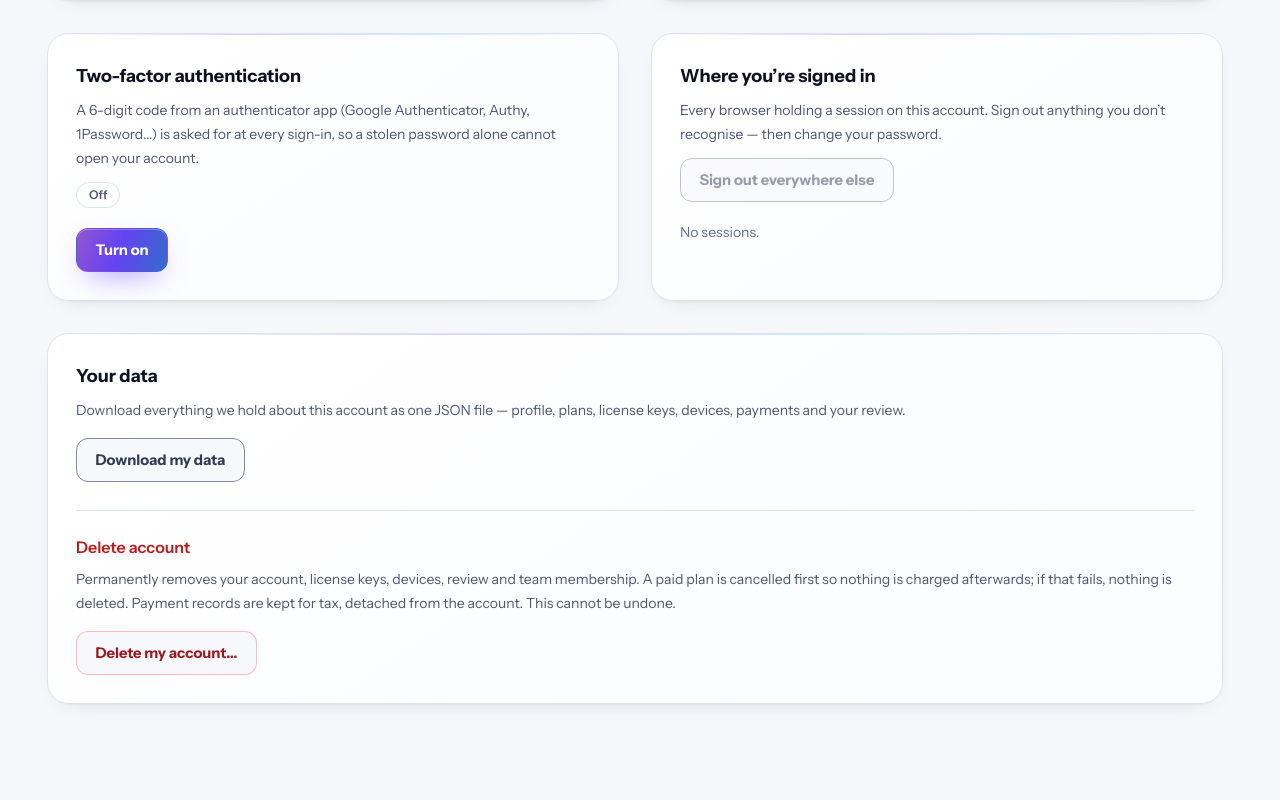
Test: Profile: Download my data › an empty answer is an error, not an empty file under a success toast
(page scrolled)
Click the button "Download my data": x=160, y=460 [76, 438, 245, 482]
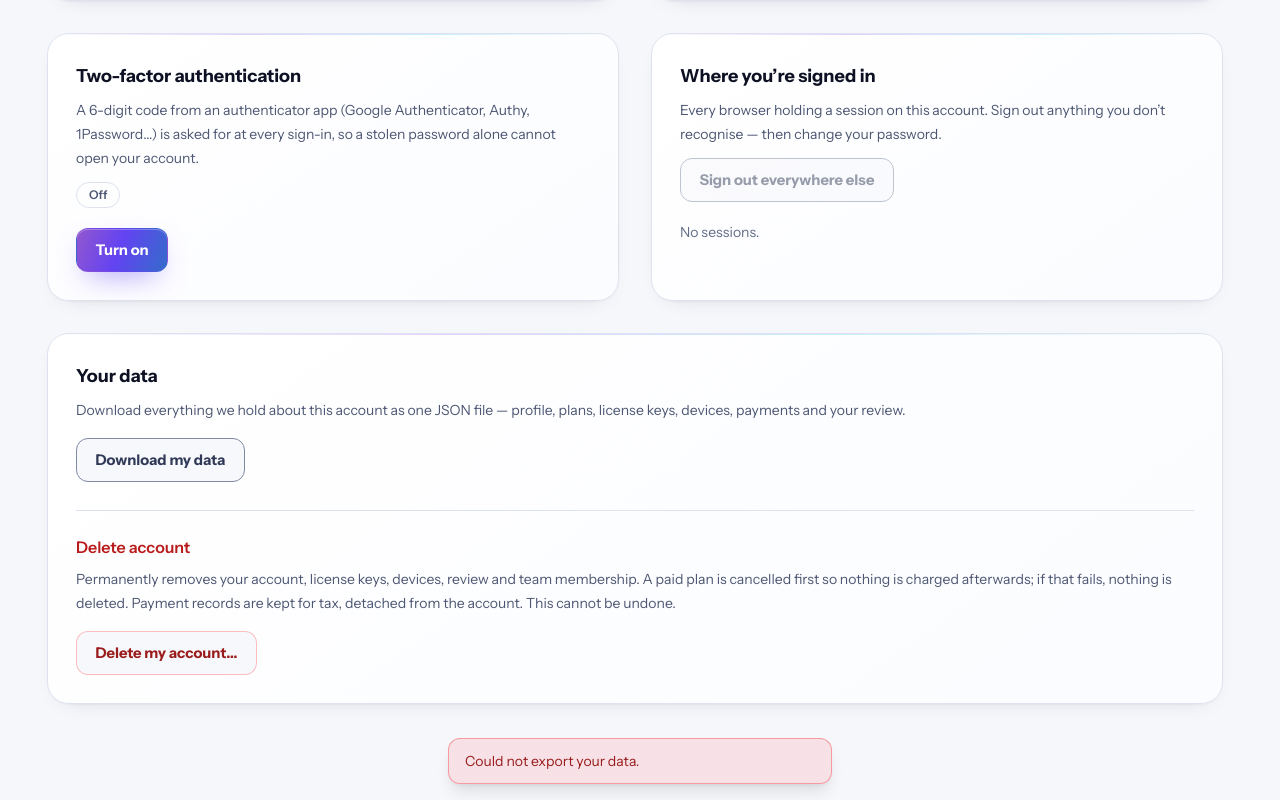
Check: the text "Could not export your data." is shown, box [448, 738, 832, 784]
